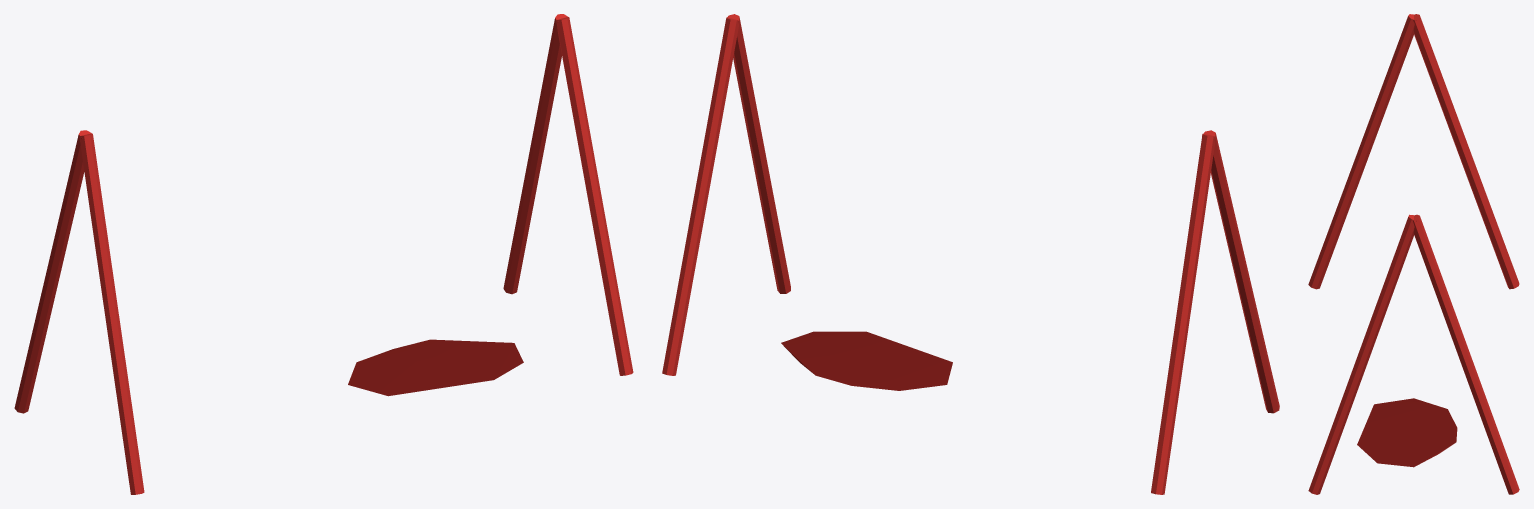
Rendered from swing_frame.glb.
The picture shows the model from 3 angles, left to right: view 1: azimuth 30°, elevation 25°; view 2: azimuth 150°, elevation 25°; view 3: azimuth 270°, elevation 25°; orthographic projection. The views are drawn at different scales.
Parts seen in each view (by area): view 1: swing_frame; view 2: swing_frame; view 3: swing_frame.
Boxes of the visible parts, bbox=[...] form: swing_frame: bbox=[14, 14, 633, 494]; swing_frame: bbox=[662, 14, 1279, 494]; swing_frame: bbox=[1308, 14, 1519, 494].
Bounding box in the file's own units: 4 × 2.43 × 1.69.
